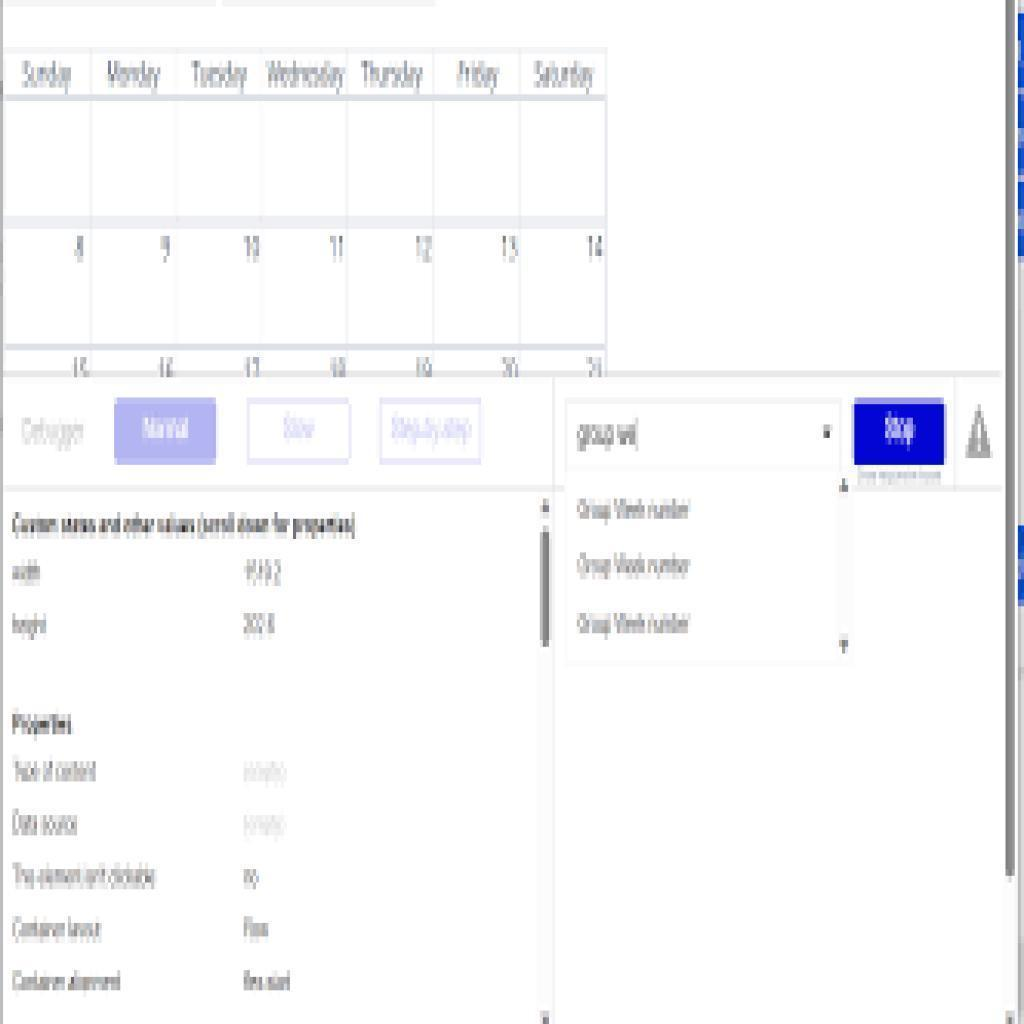button: (111, 396, 214, 466), (244, 397, 352, 462), (380, 399, 480, 463), (853, 398, 946, 465)
dropdown: (563, 400, 840, 471)
icon: (961, 404, 994, 460)
